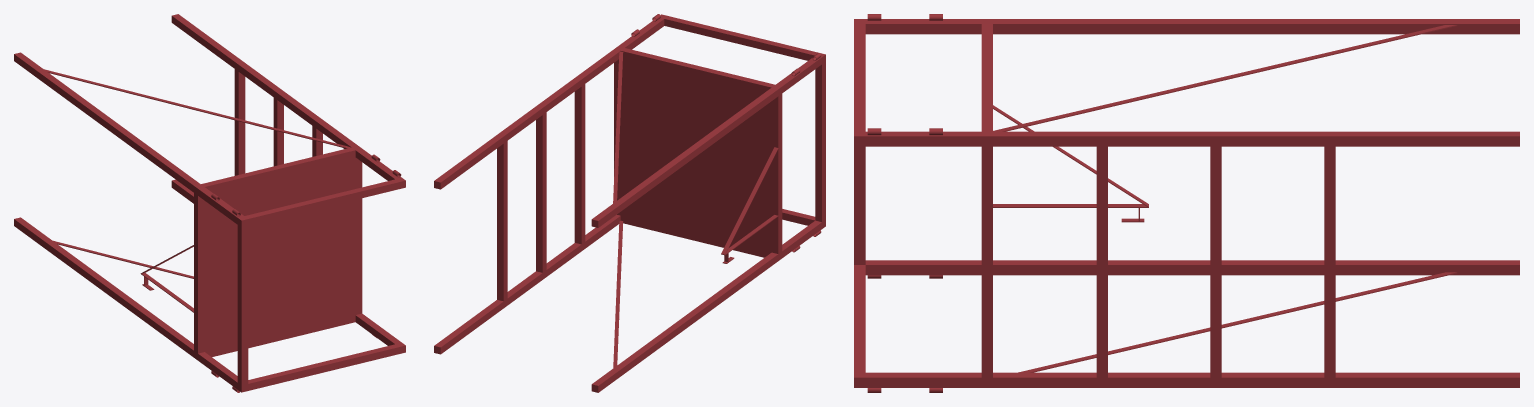
The model's file is lifeguard.obj.
3 views of the same model, side by side, from view 1: azimuth 30°, elevation 25°; view 2: azimuth 150°, elevation 25°; view 3: azimuth 270°, elevation 25° (orthographic). The views are drawn at different scales.
Visible parts, largest first — view 1: obj_0; view 2: obj_0; view 3: obj_0.
Boxes of the visible parts, x1,y1,x2,y2 form: obj_0: (14,14,405,392); obj_0: (434,14,825,392); obj_0: (854,14,1519,392).
Bounding box in the file's own units: 12.2 × 12.8 × 29.26.
